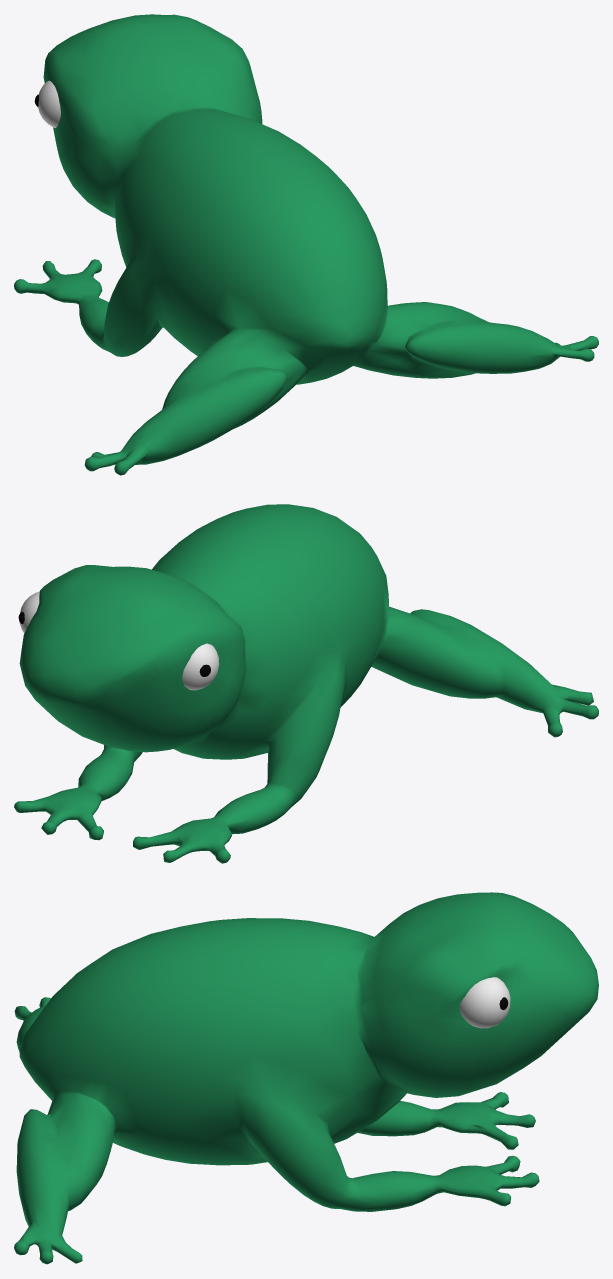
File: broascaultimate.fbx
The picture shows the model from 3 angles, top to bottom: view 1: azimuth 30°, elevation 25°; view 2: azimuth 150°, elevation 25°; view 3: azimuth 270°, elevation 25°; orthographic projection. The views are drawn at different scales.
Parts seen in each view (by area): view 1: Frogbody, Eyes; view 2: Frogbody, Eyes; view 3: Frogbody, Eyes.
Part boxes in pixels (<box>): Frogbody: <box>14,14,598,475</box>; Eyes: <box>38,36,233,127</box>; Frogbody: <box>14,504,598,863</box>; Eyes: <box>19,592,219,690</box>; Frogbody: <box>14,892,598,1264</box>; Eyes: <box>459,977,510,1028</box>.
Size of the model in its own units: 514 by 250 by 492.
